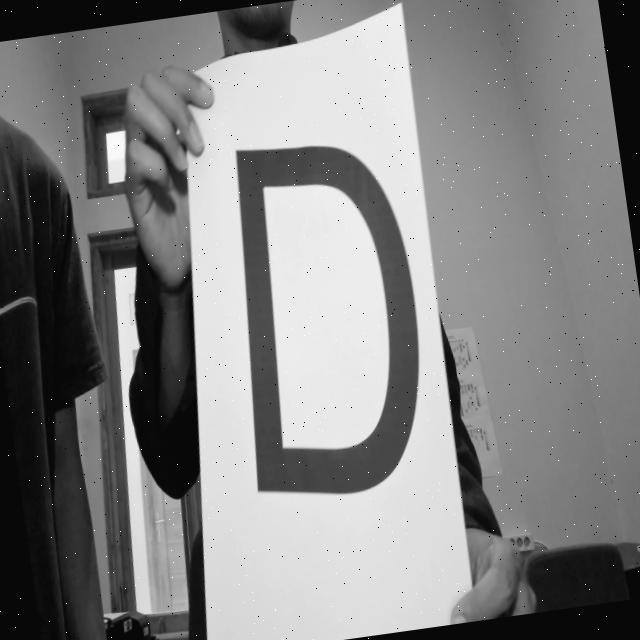d: (205, 114, 448, 534)
